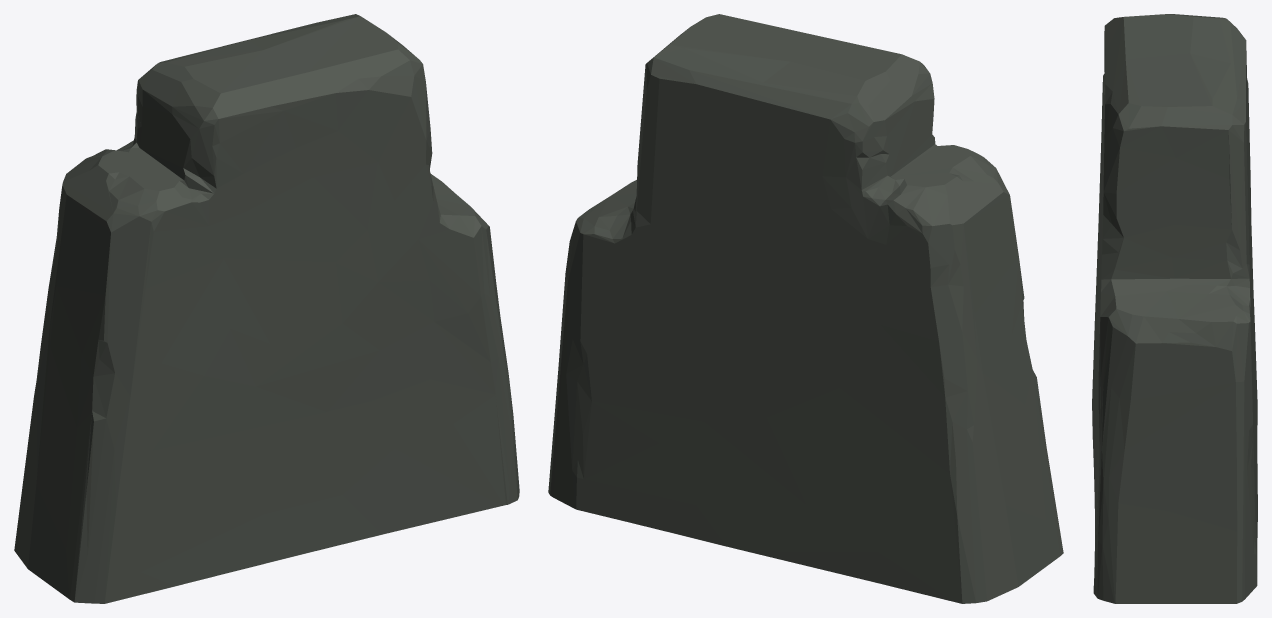
Rendered from Cliff_02.FBX.
3 views of the same model, side by side, from view 1: azimuth 30°, elevation 25°; view 2: azimuth 150°, elevation 25°; view 3: azimuth 270°, elevation 25° (orthographic). The views are drawn at different scales.
Visible parts, largest first — view 1: Cliff_02; view 2: Cliff_02; view 3: Cliff_02.
Boxes of the visible parts, box(x1,y1,x2,y2) form: Cliff_02: box(14, 14, 519, 603); Cliff_02: box(548, 14, 1063, 603); Cliff_02: box(1092, 14, 1257, 603).
Size of the model in its own units: 48.5 by 48.11 by 16.12.
